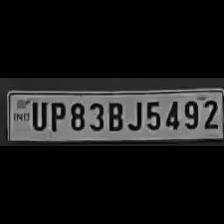2: (200, 96, 218, 130)
3: (88, 99, 104, 131)
4: (162, 97, 180, 130)
5: (142, 97, 160, 131)
8: (66, 99, 86, 131)
9: (181, 97, 199, 129)
B: (104, 99, 124, 131)
J: (125, 98, 142, 132)
P: (47, 100, 65, 132)
U: (28, 99, 46, 131)
